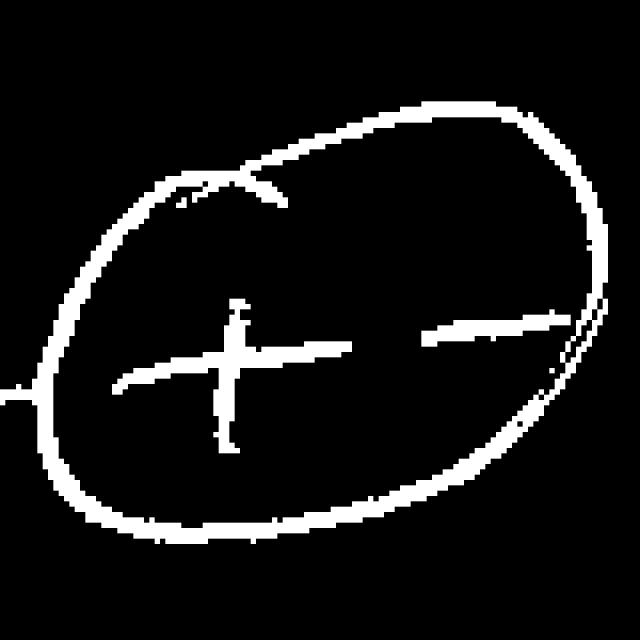voltage_source: (22, 94, 610, 556)
